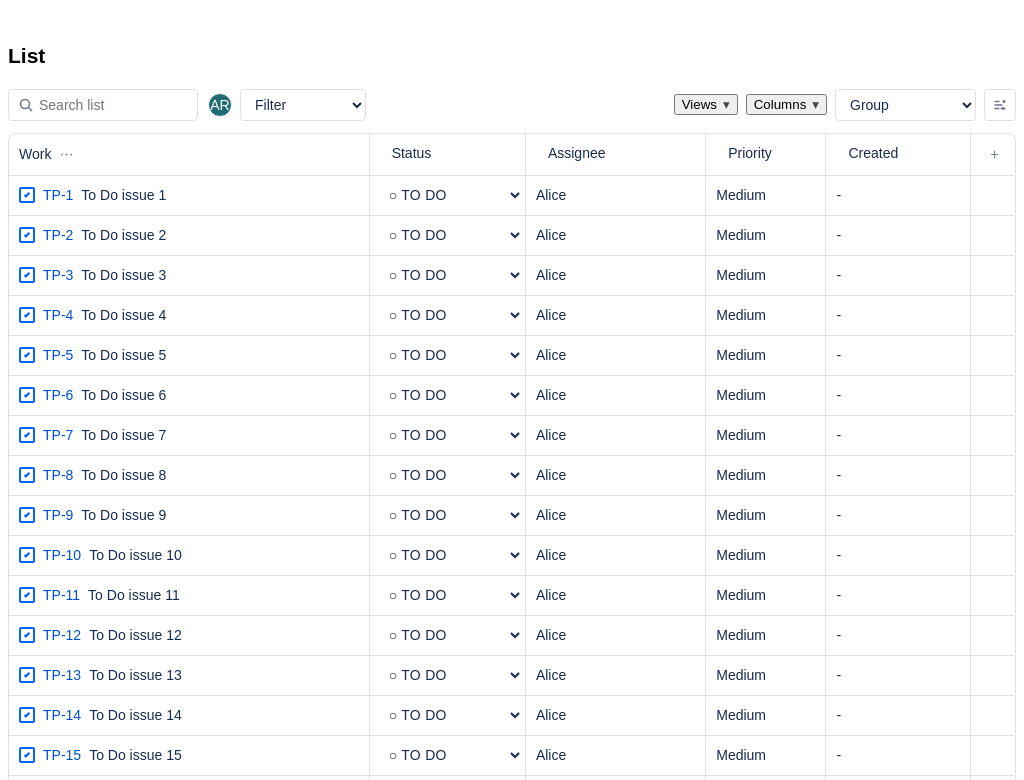
Test: JL-263 — group-by counts stay full-set correct under variable page size › keeps groups contiguous with full counts across a page boundary (size 10)
Select "Group by status" in the 2nd dropdown showing "Group": (906, 105) x1=835 y1=89 x2=976 y2=121
(page scrolled)
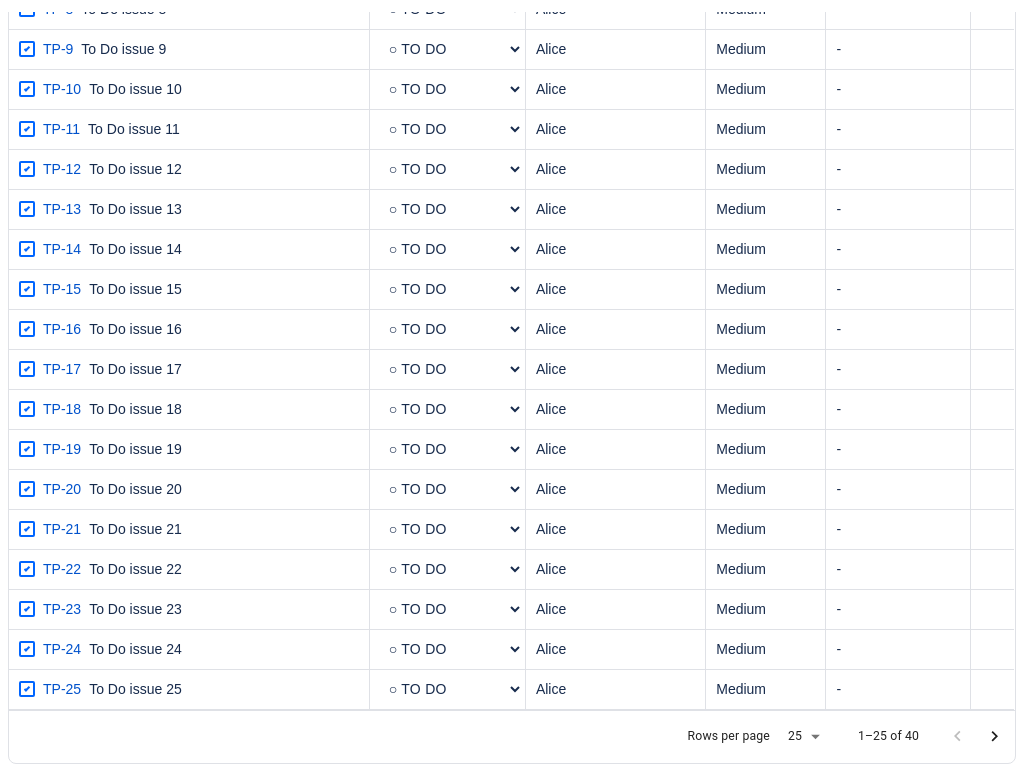
Select "10" in the dropdown named "Rows per page": (802, 737) x1=778 y1=724 x2=826 y2=750
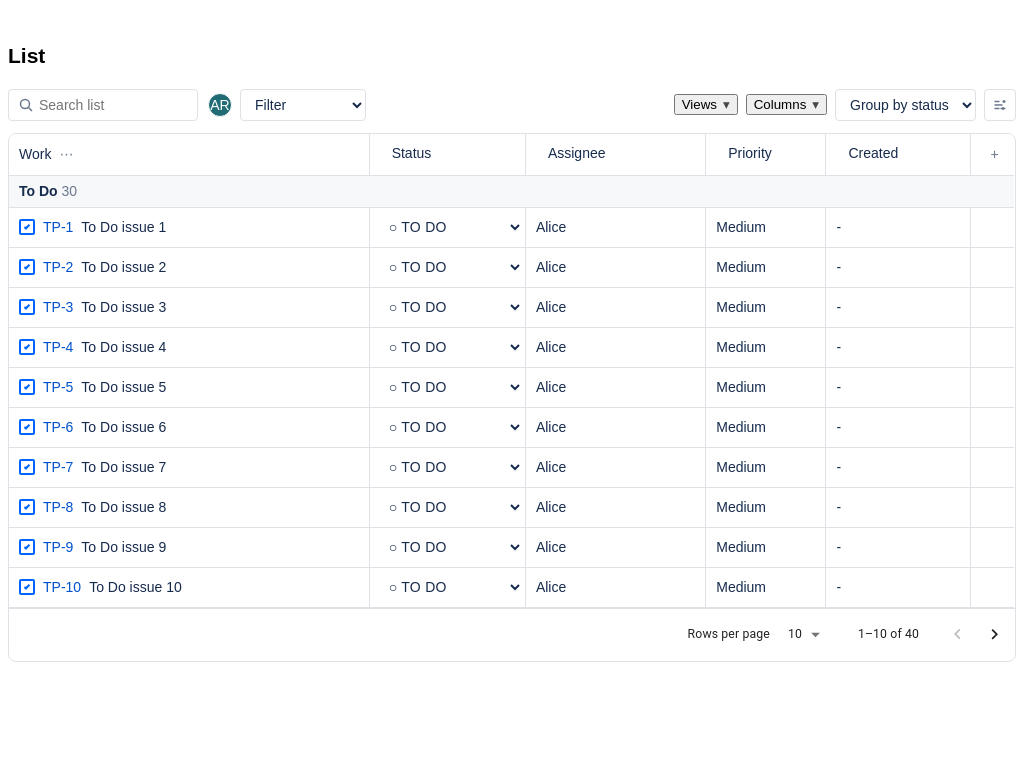
Click the button named "Go to next page": (994, 635) x1=976 y1=616 x2=1013 y2=653
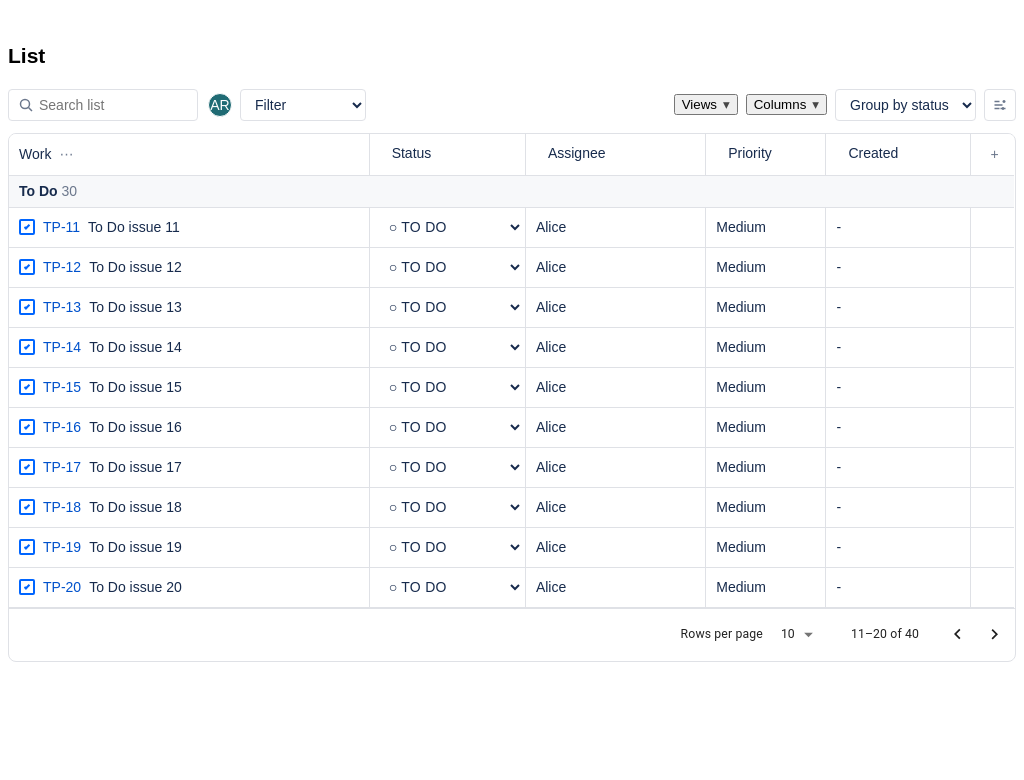
Click the button named "Go to next page": (994, 635) x1=976 y1=616 x2=1013 y2=653
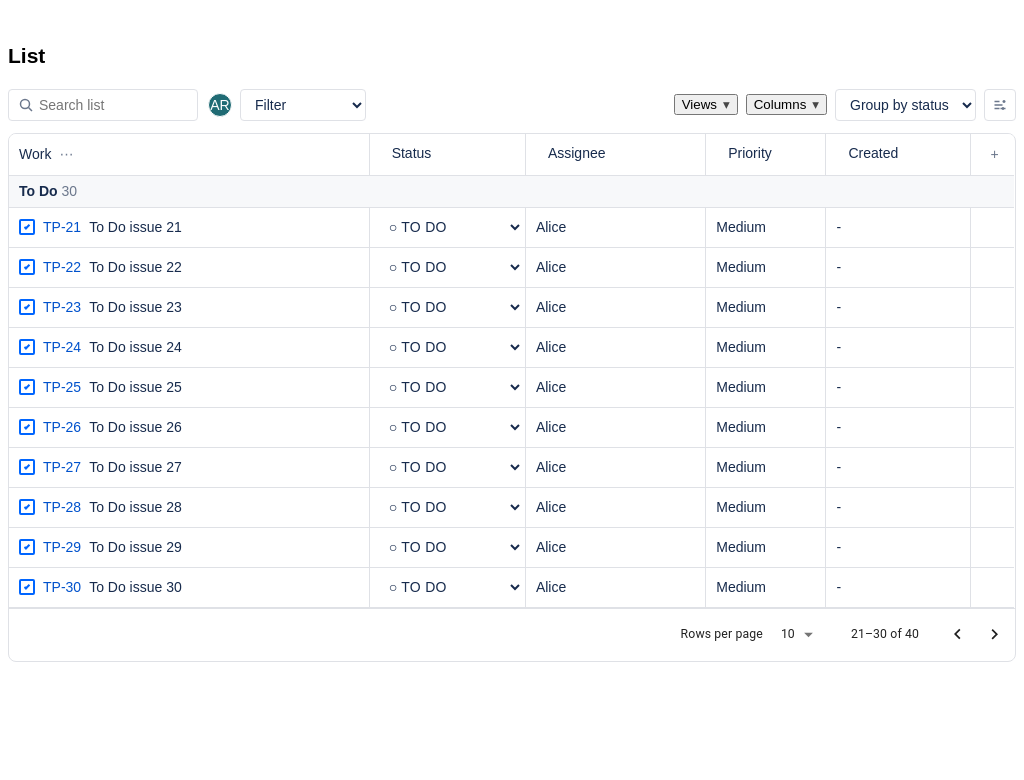
Click the button named "Go to next page": (994, 635) x1=976 y1=616 x2=1013 y2=653
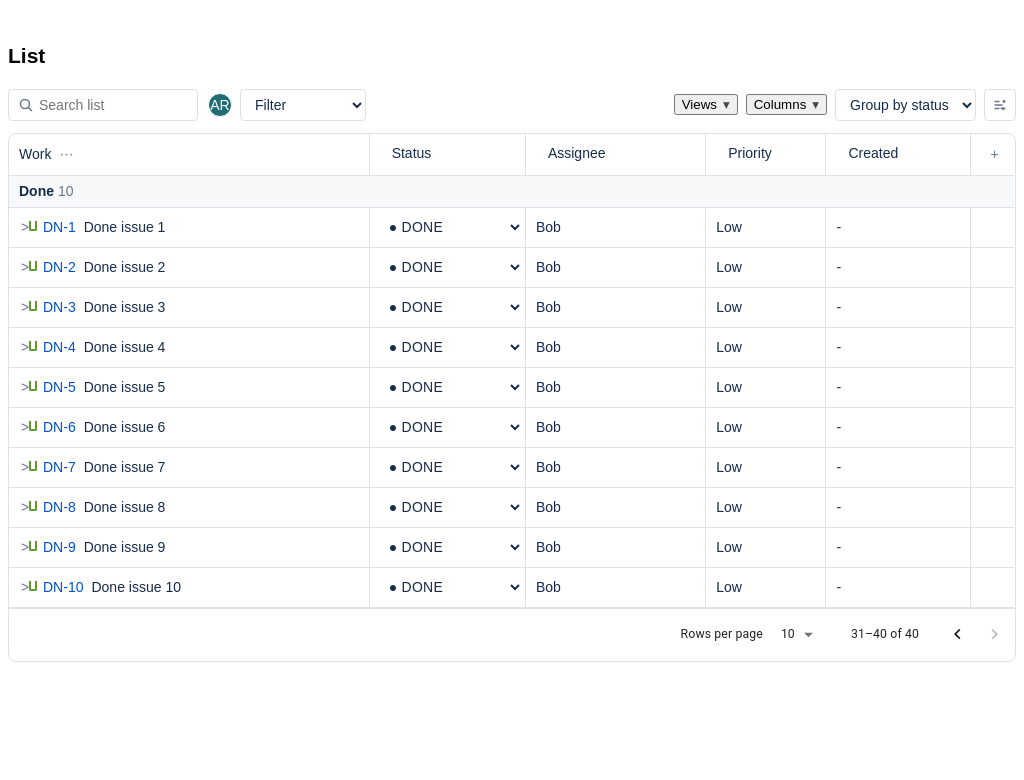
Expected: the button "DN-1" is shown, x1=43 y1=219 x2=76 y2=235
Expected: the button "TP-30" is gone
